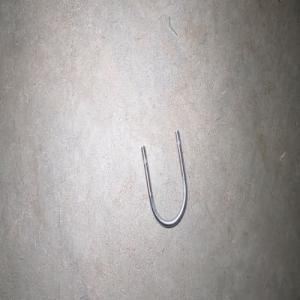ClampPart: (140, 129, 187, 228)
